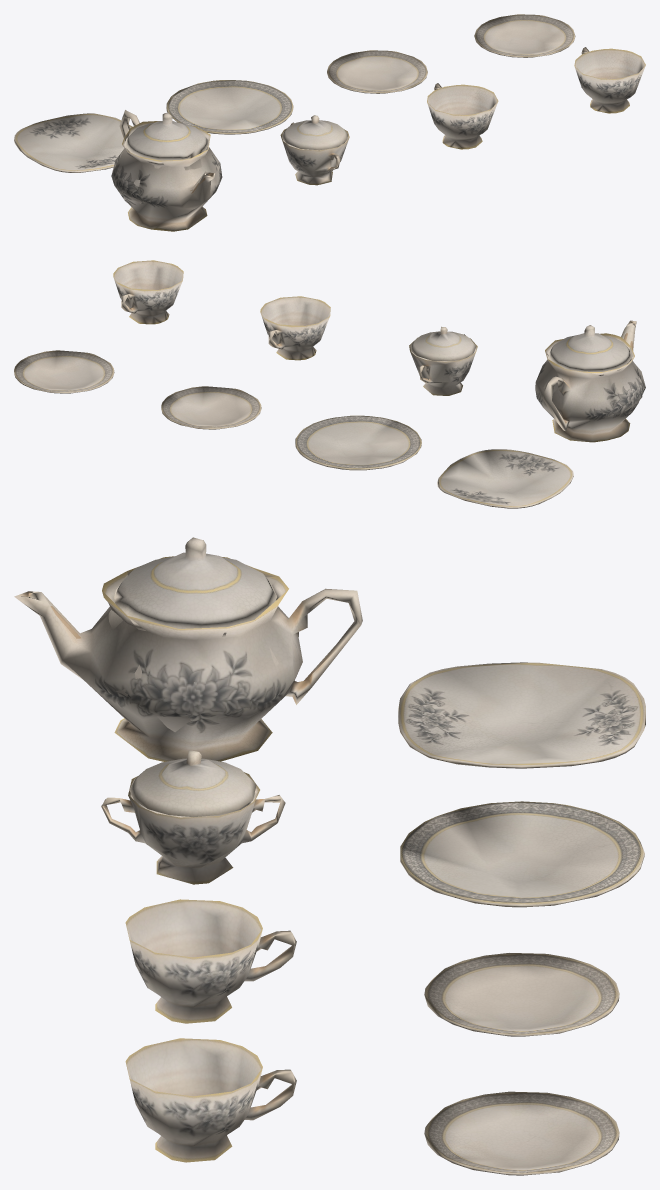
The model's file is tea_set_01.glb.
The picture shows the model from 3 angles, top to bottom: view 1: azimuth 30°, elevation 25°; view 2: azimuth 150°, elevation 25°; view 3: azimuth 270°, elevation 25°; orthographic projection. The views are drawn at different scales.
Parts seen in each view (by area): view 1: tea_set_01_teapot_01, tea_set_01_plate_large_circular_03, tea_set_01_plate_large_square_01, tea_set_01_saucer_circular_03, tea_set_01_saucer_circular_04, tea_set_01_cup_small_01, tea_set_01_cup_small_02, tea_set_01_teapot_01_lid, tea_set_01_sugar_cup_01, tea_set_01_sugar_cup_01_lid; view 2: tea_set_01_teapot_01, tea_set_01_plate_large_square_01, tea_set_01_plate_large_circular_03, tea_set_01_saucer_circular_03, tea_set_01_saucer_circular_04, tea_set_01_cup_small_01, tea_set_01_cup_small_02, tea_set_01_teapot_01_lid, tea_set_01_sugar_cup_01, tea_set_01_sugar_cup_01_lid; view 3: tea_set_01_teapot_01, tea_set_01_plate_large_square_01, tea_set_01_plate_large_circular_03, tea_set_01_cup_small_02, tea_set_01_cup_small_01, tea_set_01_saucer_circular_03, tea_set_01_saucer_circular_04, tea_set_01_teapot_01_lid, tea_set_01_sugar_cup_01, tea_set_01_sugar_cup_01_lid.
Part boxes in pixels (x1,y1,x2,y2): tea_set_01_teapot_01: (111, 110, 222, 231); tea_set_01_plate_large_circular_03: (166, 80, 293, 134); tea_set_01_plate_large_square_01: (14, 113, 132, 172); tea_set_01_saucer_circular_03: (474, 14, 575, 57); tea_set_01_saucer_circular_04: (327, 50, 427, 93); tea_set_01_cup_small_01: (427, 83, 498, 149); tea_set_01_cup_small_02: (574, 47, 645, 113); tea_set_01_teapot_01_lid: (125, 112, 208, 160); tea_set_01_sugar_cup_01: (280, 122, 349, 185); tea_set_01_sugar_cup_01_lid: (282, 115, 347, 150); tea_set_01_teapot_01: (535, 320, 645, 442); tea_set_01_plate_large_square_01: (437, 449, 573, 508); tea_set_01_plate_large_circular_03: (295, 415, 421, 470); tea_set_01_saucer_circular_03: (14, 350, 114, 393); tea_set_01_saucer_circular_04: (161, 386, 261, 429); tea_set_01_cup_small_01: (260, 296, 330, 360); tea_set_01_cup_small_02: (113, 260, 183, 324); tea_set_01_teapot_01_lid: (548, 325, 631, 371); tea_set_01_sugar_cup_01: (409, 334, 477, 395); tea_set_01_sugar_cup_01_lid: (410, 326, 476, 360); tea_set_01_teapot_01: (14, 556, 362, 761); tea_set_01_plate_large_square_01: (398, 662, 645, 768); tea_set_01_plate_large_circular_03: (400, 801, 644, 907); tea_set_01_cup_small_02: (125, 1038, 296, 1162); tea_set_01_cup_small_01: (125, 899, 296, 1023); tea_set_01_saucer_circular_03: (424, 1091, 619, 1175); tea_set_01_saucer_circular_04: (424, 953, 619, 1036); tea_set_01_teapot_01_lid: (114, 537, 276, 628); tea_set_01_sugar_cup_01: (101, 772, 285, 884); tea_set_01_sugar_cup_01_lid: (129, 750, 256, 817).
Size of the model in its own units: 0.918 by 0.1633 by 0.4809.
Materials: 1 (1 with a texture image).
